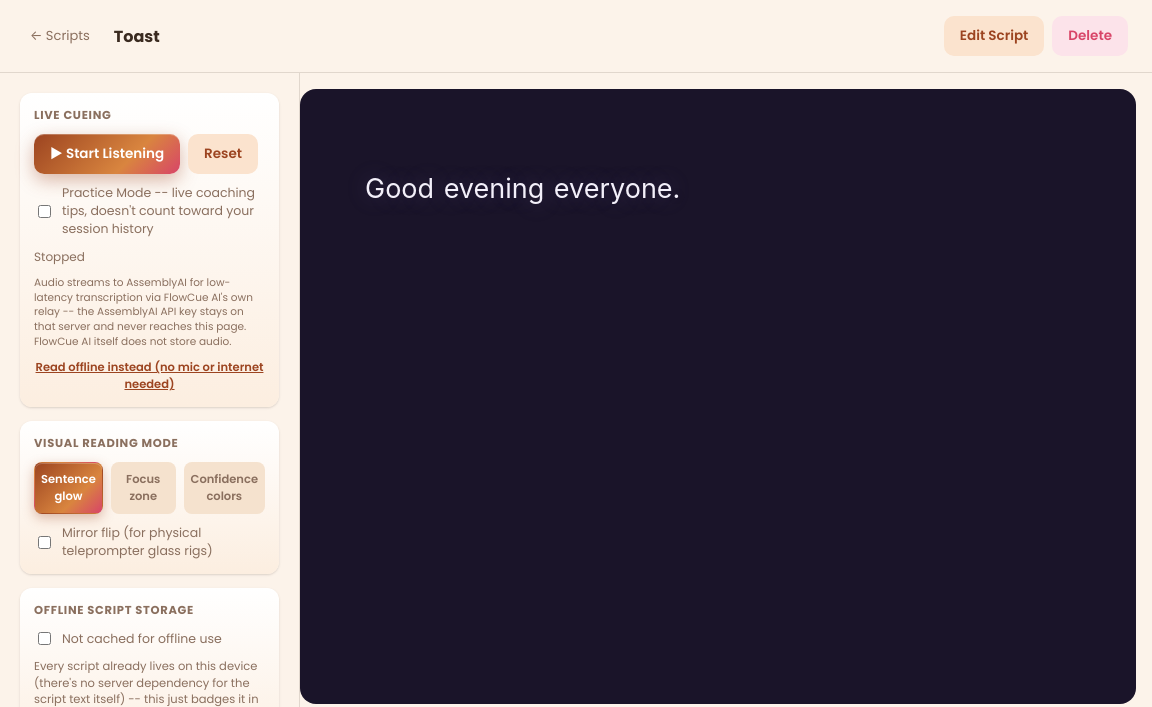
Test: ScriptWorkspace offline reading › offers a manual opt-in even when offline mode is off and the connection is fine
Expected: the button "▶ Start Listening" is shown, [34, 134, 180, 174]
Click the button "Read offline instead (no mic or internet needed)" at (150, 376), box [34, 359, 265, 393]
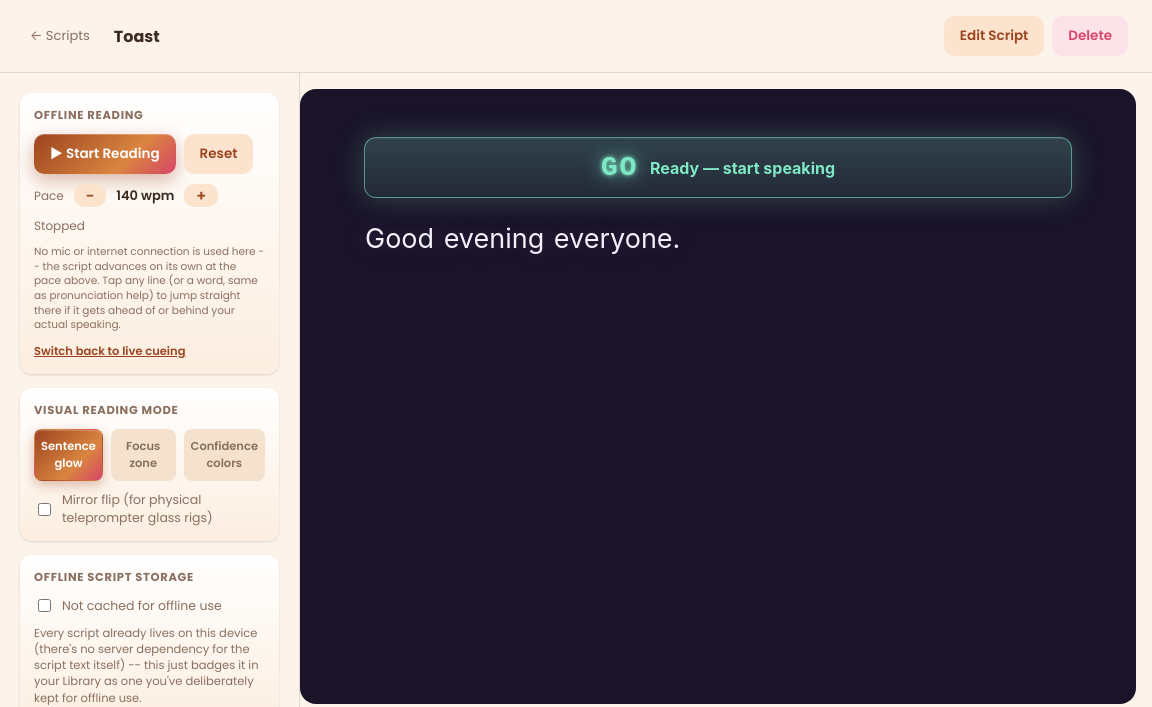
Result: the heading "Offline Reading" is shown at [34, 107, 144, 123]
Result: the button "▶ Start Listening" is gone
Note: Not forced by Settings this time -- can switch back.
Click the button "Switch back to live cueing" at (110, 352), box [34, 343, 186, 360]
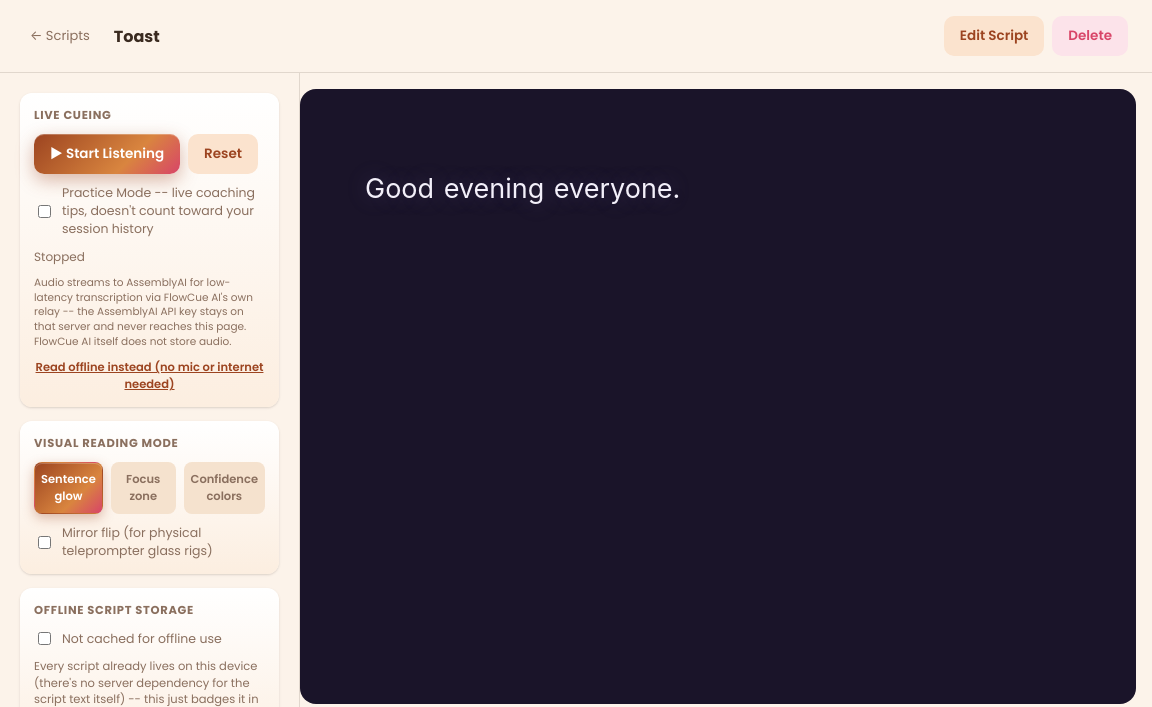
Result: the button "▶ Start Listening" is shown at [34, 134, 180, 174]
